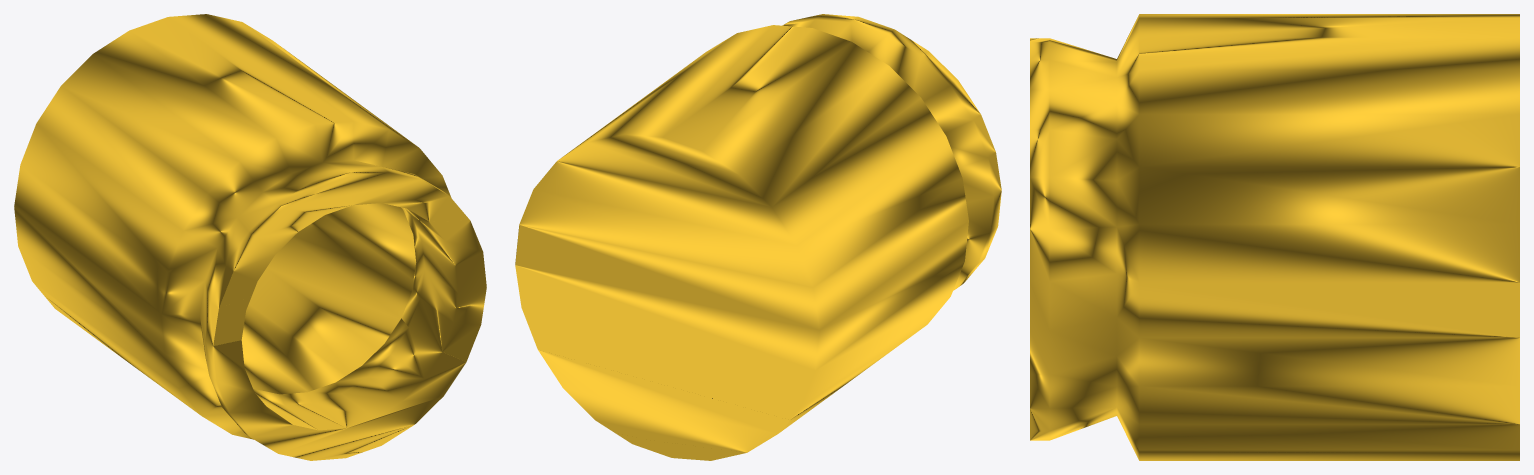
The model's file is model_align.obj.
3 views of the same model, side by side, from view 1: azimuth 30°, elevation 25°; view 2: azimuth 150°, elevation 25°; view 3: azimuth 270°, elevation 25° (orthographic). The views are drawn at different scales.
Bounding box in the file's own units: 0.1639 × 0.1639 × 0.1794.
